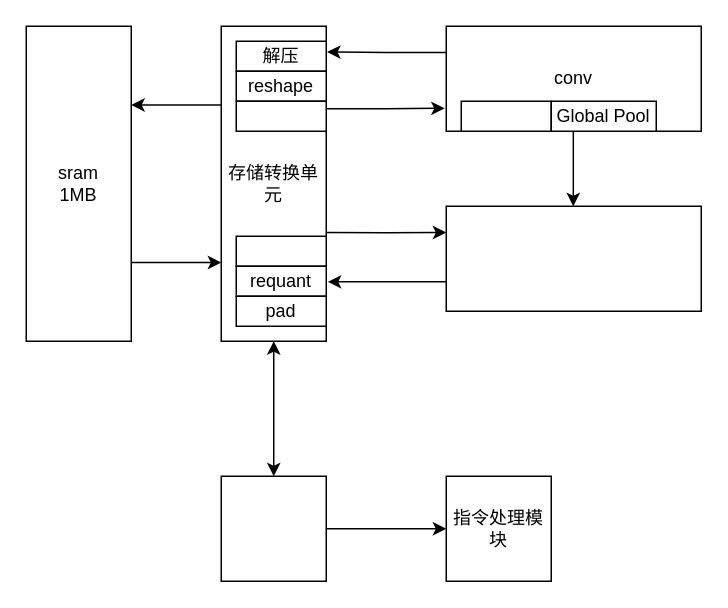
Image size: 728x608. Some labels were removed from this diagram. The shapes that lost their labels are listed below. From the top down, each one's centre as x and y in pixels, then its label:
At (x=280, y=115): "resize".
At (x=505, y=115): "ReLU".
At (x=280, y=250): "quant".
At (x=573, y=258): "pool/vector/elementwise".
At (x=273, y=528): "DMA".
